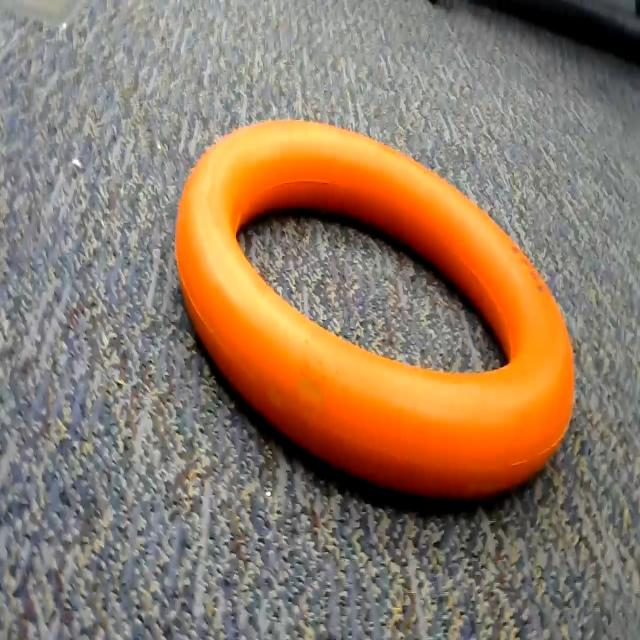note: (167, 90, 586, 540)
